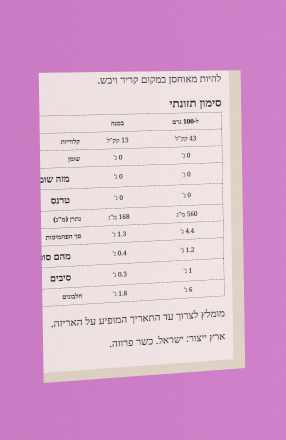carbs: (179, 225, 195, 237)
energy: (174, 133, 197, 144)
fat: (180, 150, 191, 161)
protein: (183, 284, 194, 295)
